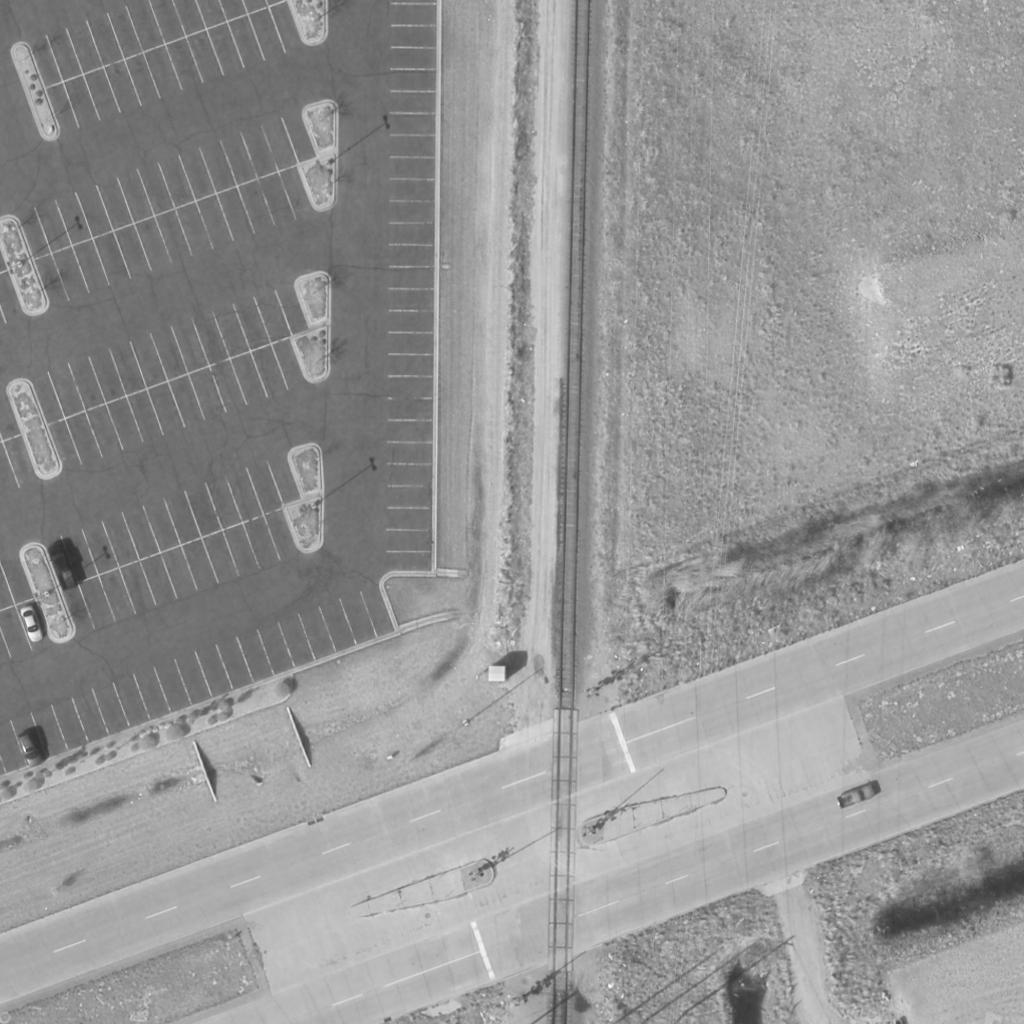vehicle: (16, 732, 48, 768), (836, 786, 876, 812), (18, 607, 44, 645)
